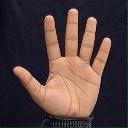hand: (12, 7, 111, 120)
